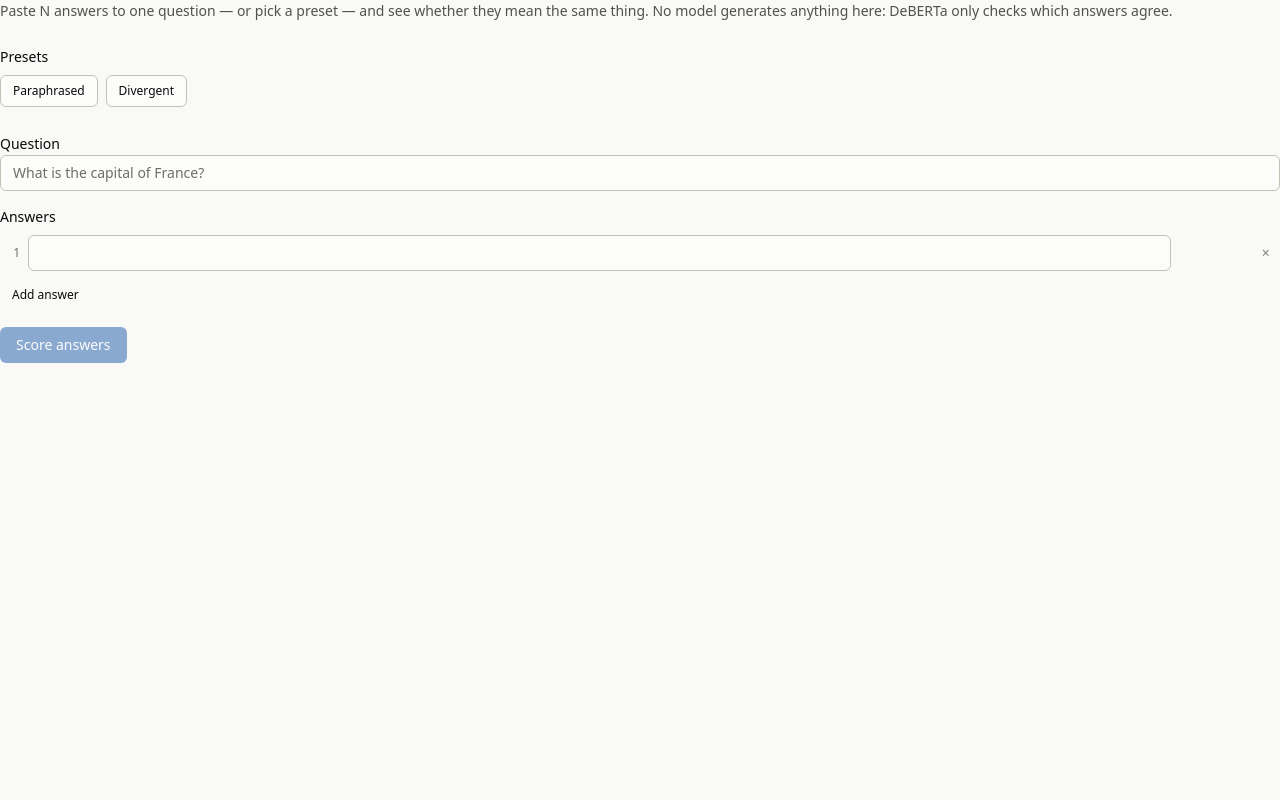
Test case: ScoreTab › scores typed answers and explains why PE needs token logprobs
Type "Capital of France?" into the field labelled "Question". click: x=640, y=173
box: [0, 155, 1279, 191]
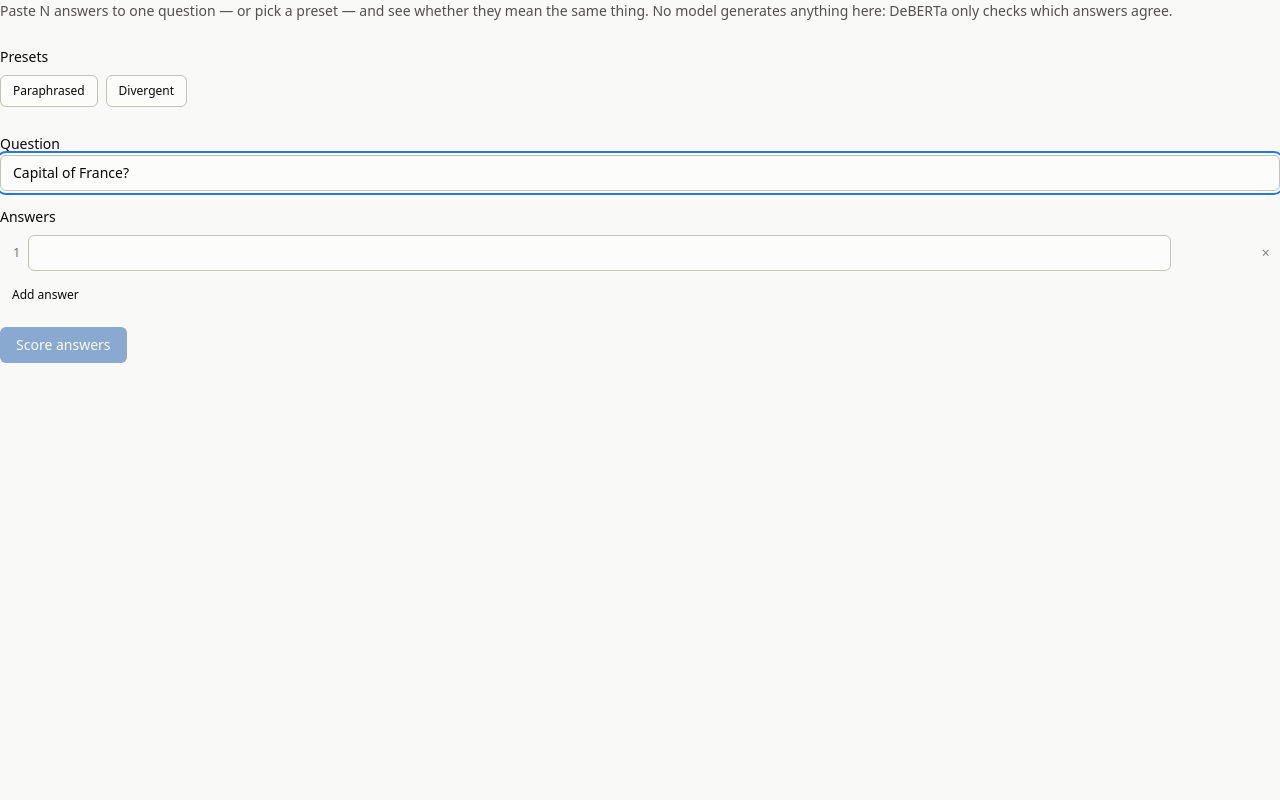
Type "Paris" into the field named "Answer 1". click: x=600, y=253
box: [28, 235, 1172, 271]
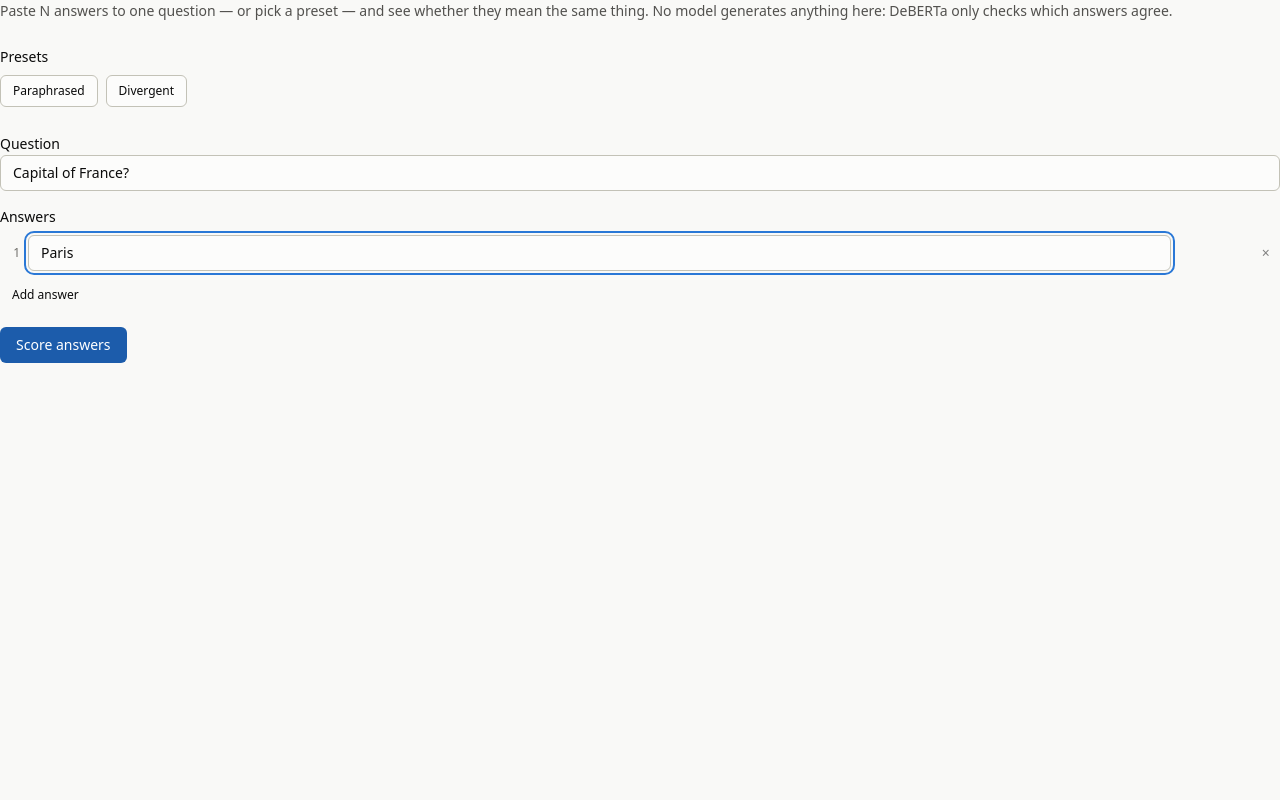
Click the button "Add answer". click: x=45, y=295
box: [0, 279, 91, 311]
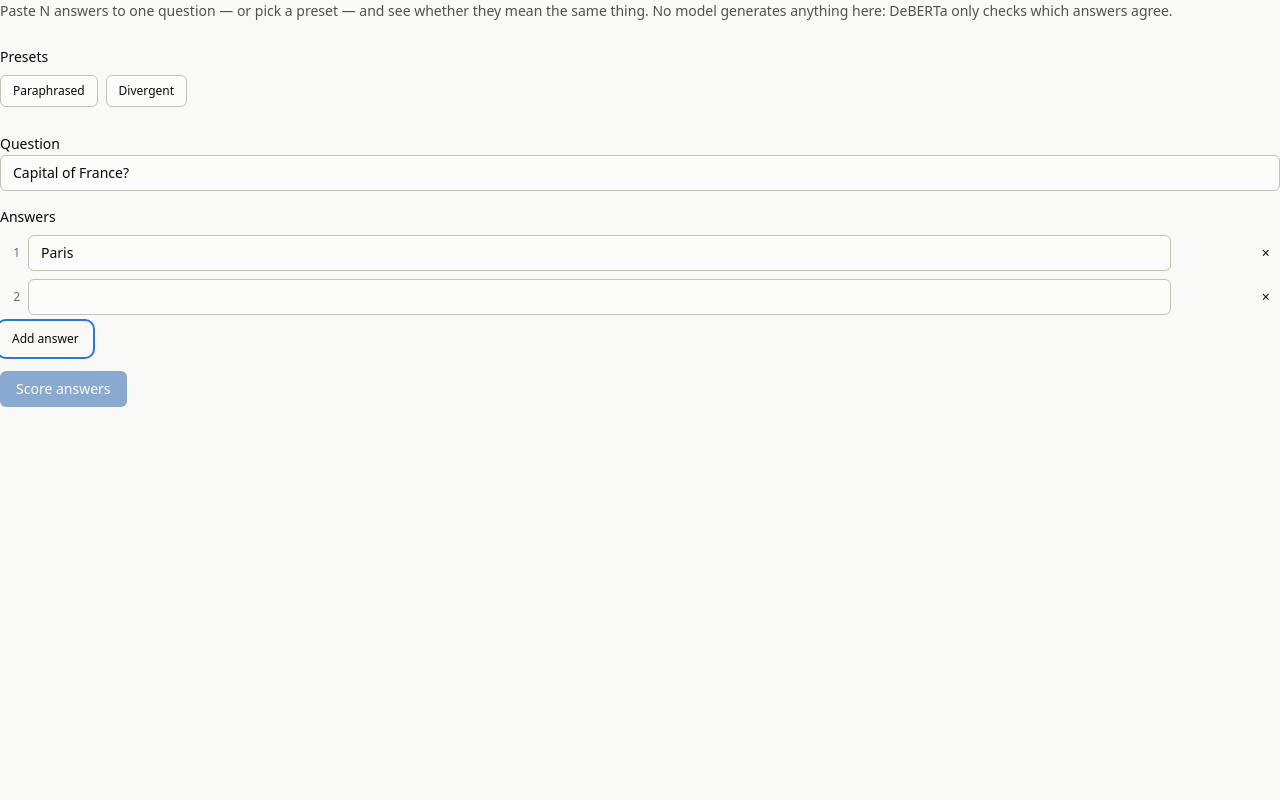
Type "Lyon" into the field named "Answer 2". click: x=600, y=297
box: [28, 279, 1172, 315]
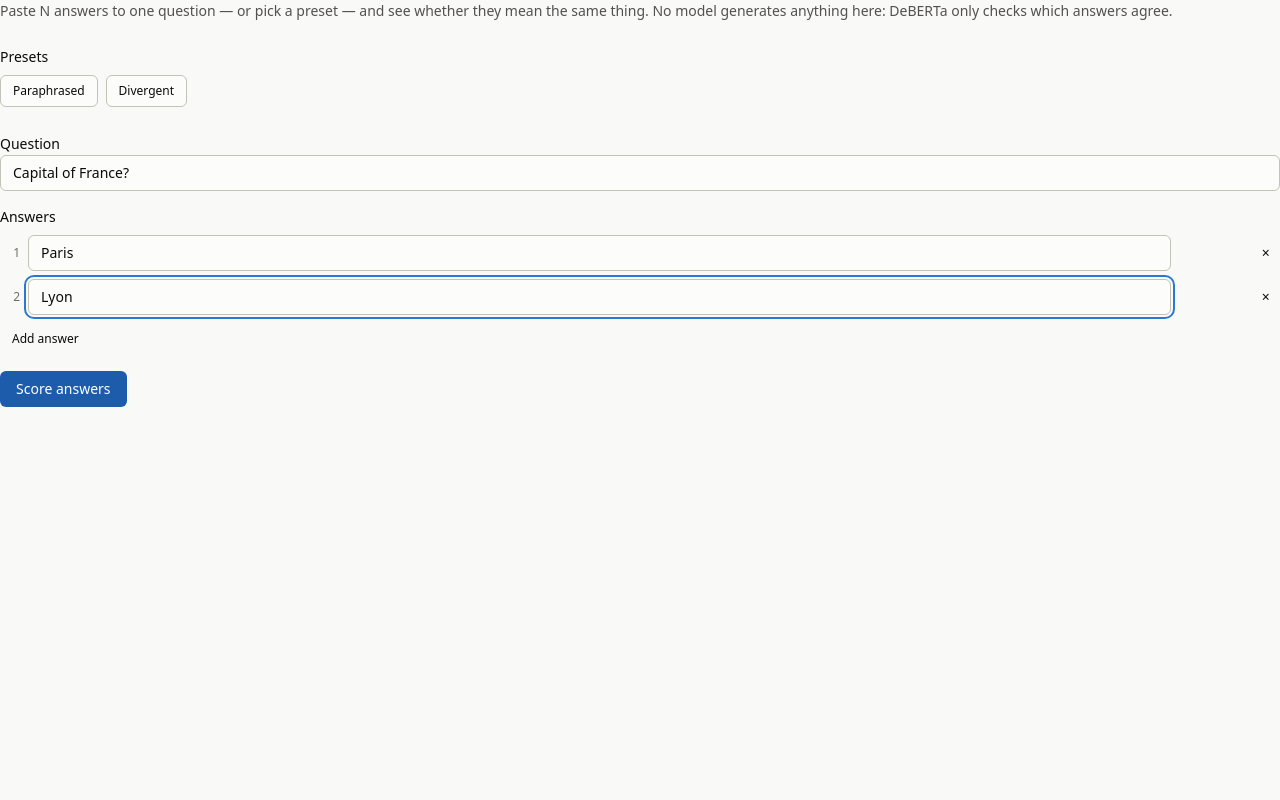
Click the button "Score answers". click: x=63, y=389
box: [0, 371, 126, 407]
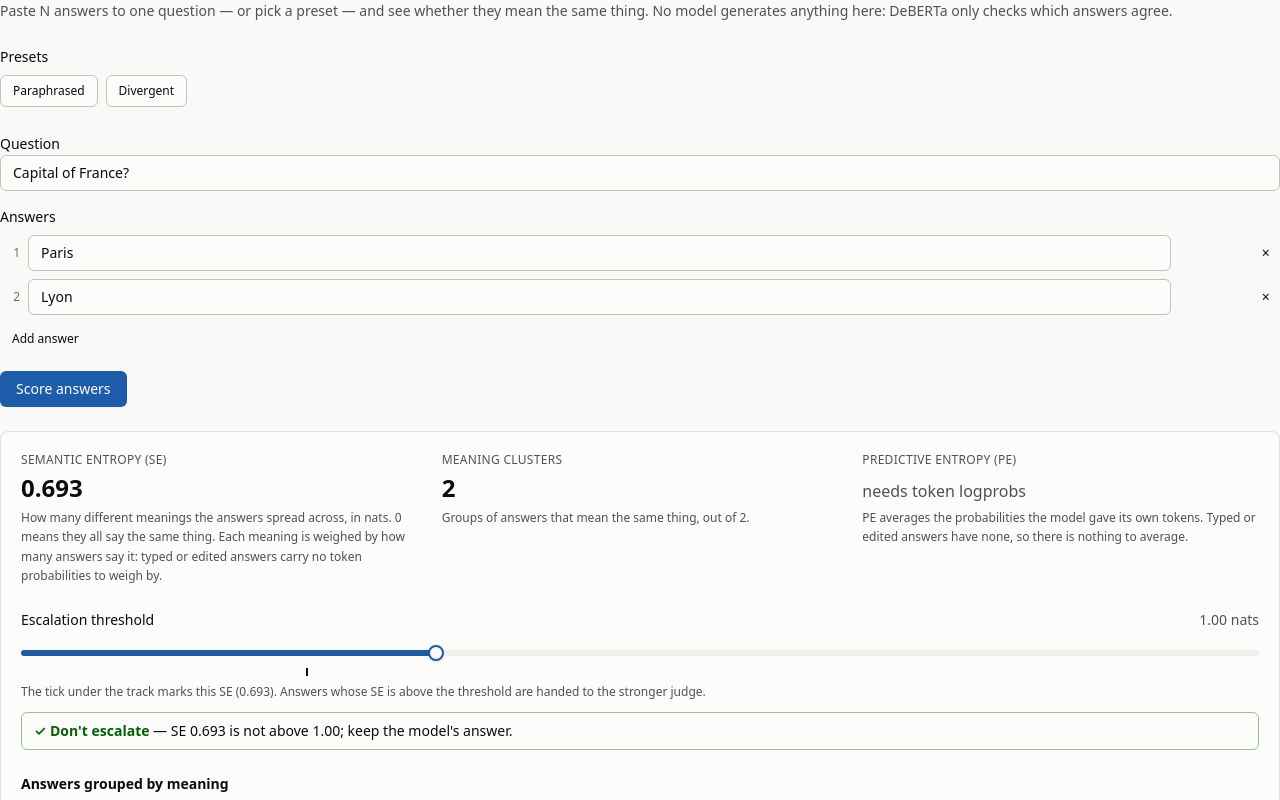
Expected: the element "Predictive Entropy (PE)" shows "needs token logprobs", [862, 480, 1026, 502]
Expected: the element "Semantic Entropy (SE)" shows "0.693", [21, 471, 83, 504]
Expected: the element "Semantic Entropy (SE)" shows "how many answers say it", [21, 509, 405, 584]
